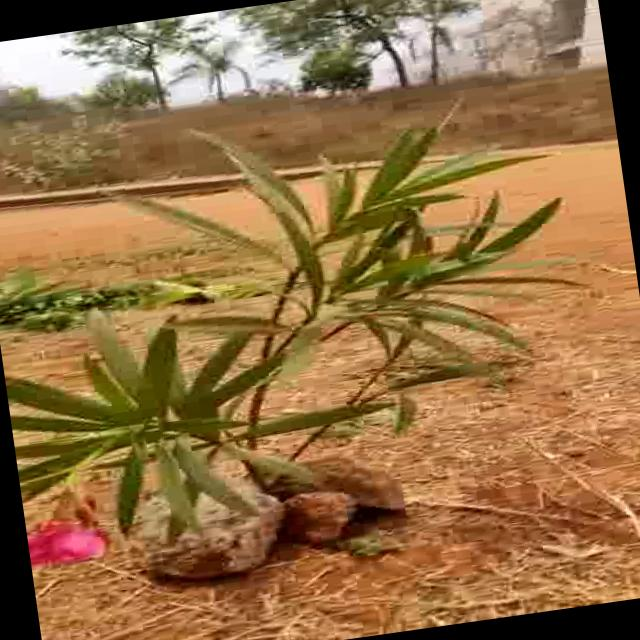Oleander: (0, 118, 527, 503)
